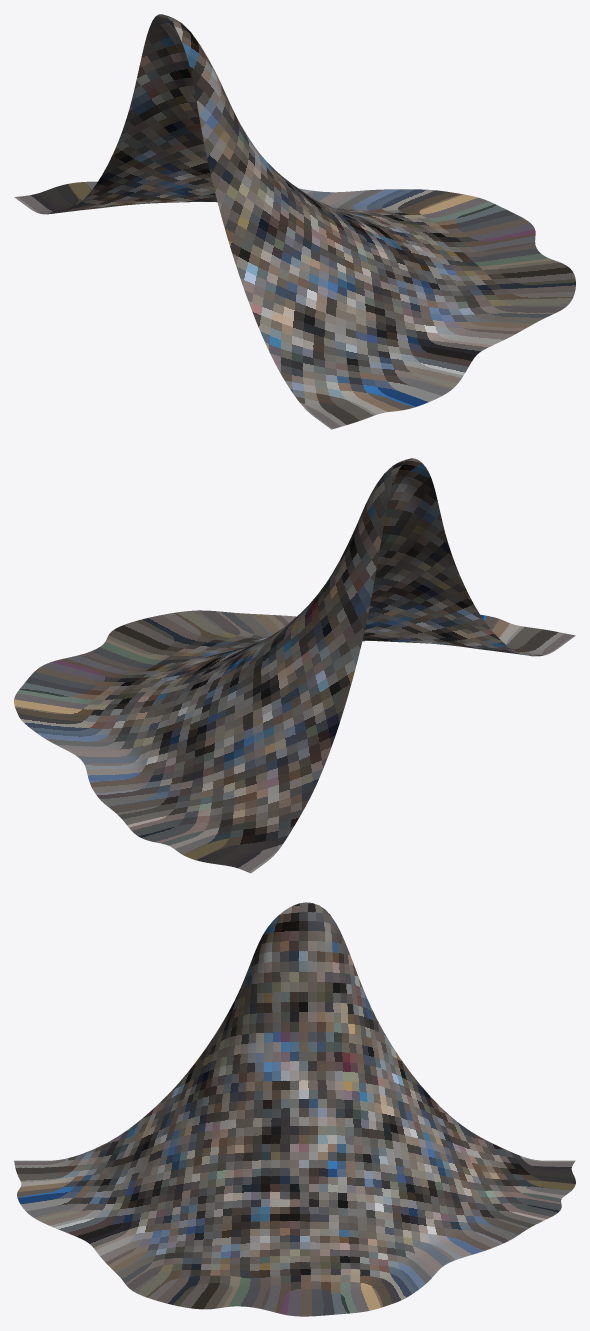
File: Trash_Pile_Wall_A.FBX
The picture shows the model from 3 angles, top to bottom: view 1: azimuth 30°, elevation 25°; view 2: azimuth 150°, elevation 25°; view 3: azimuth 270°, elevation 25°; orthographic projection. The views are drawn at different scales.
Visible parts, largest first — view 1: Geometry_Trash_Pile_Wall_A_LOD00; view 2: Geometry_Trash_Pile_Wall_A_LOD00; view 3: Geometry_Trash_Pile_Wall_A_LOD00.
Part boxes in pixels (bbox=[...]): Geometry_Trash_Pile_Wall_A_LOD00: bbox=[14, 14, 575, 429]; Geometry_Trash_Pile_Wall_A_LOD00: bbox=[14, 458, 575, 873]; Geometry_Trash_Pile_Wall_A_LOD00: bbox=[14, 902, 575, 1316].
Size of what is drawn, in the model's own units: 1633 by 1263 by 2490.
